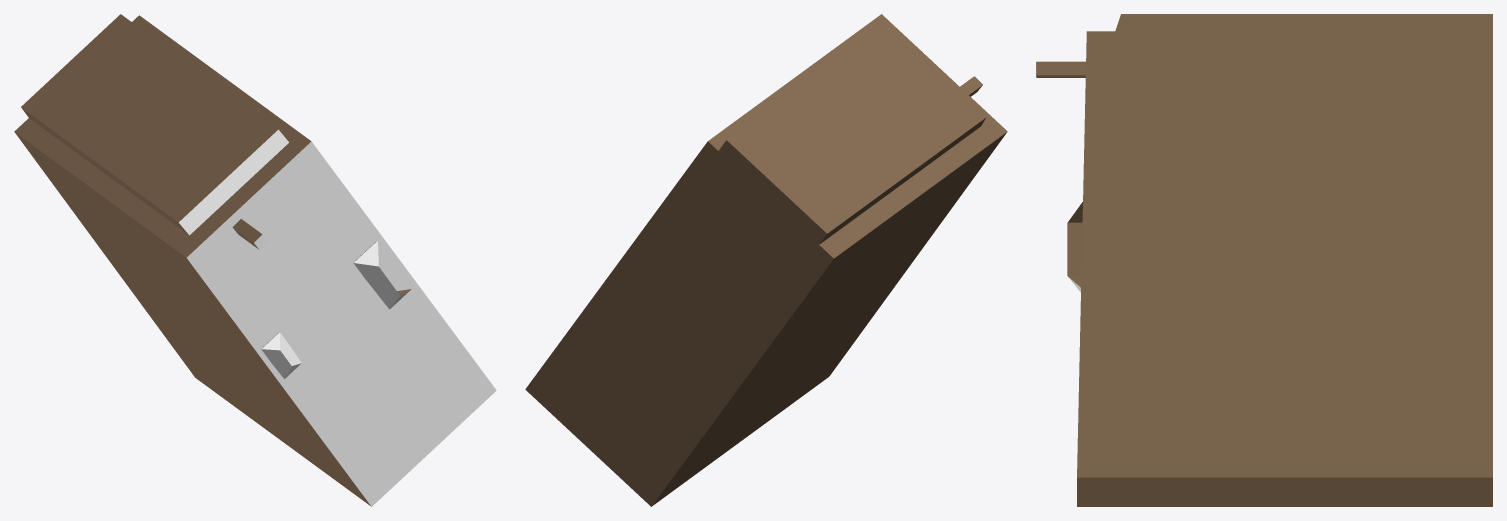
3 renders of one model, left to right at view 1: azimuth 30°, elevation 25°; view 2: azimuth 150°, elevation 25°; view 3: azimuth 270°, elevation 25°, orthographic. The views are drawn at different scales.
Visible parts, largest first — view 1: City_1885663; view 2: City_1885663; view 3: City_1885663.
Boxes of the visible parts, x1,y1,x2,y2 form: City_1885663: (14,14,496,506); City_1885663: (525,14,1007,506); City_1885663: (1036,14,1492,506).
Bounding box in the file's own units: 1711 × 2041 × 1877.
